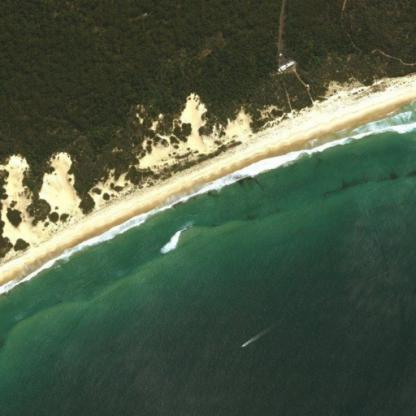ship: (241, 344, 244, 346)
